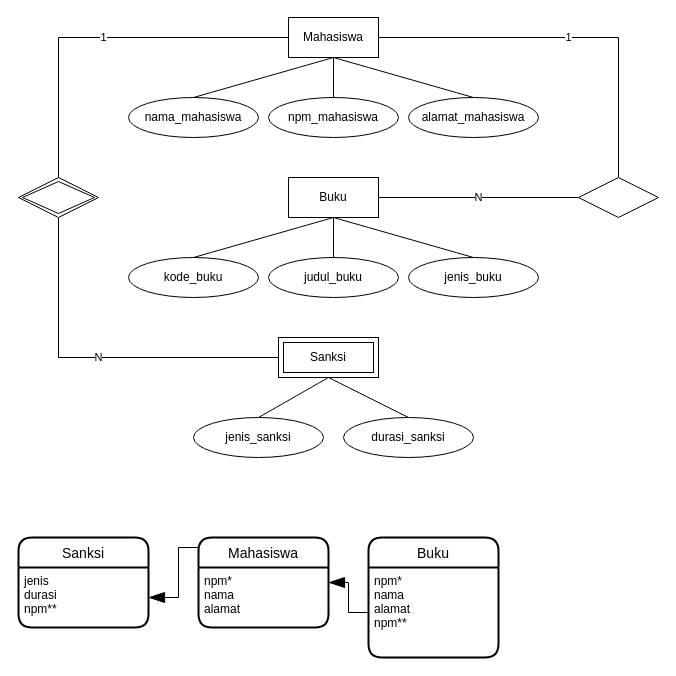
The diagram is 676 pixels wide and 676 high, and some of its shapes have lost their labels. Here are the shapes that lost their labels. From the top down, the box of each, then its label:
(18, 176, 98, 218): Dapat
(578, 176, 658, 218): Pinjam
